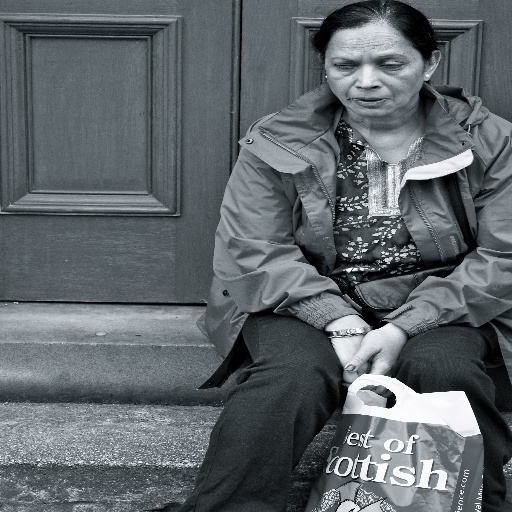hand: (332, 321, 374, 388)
